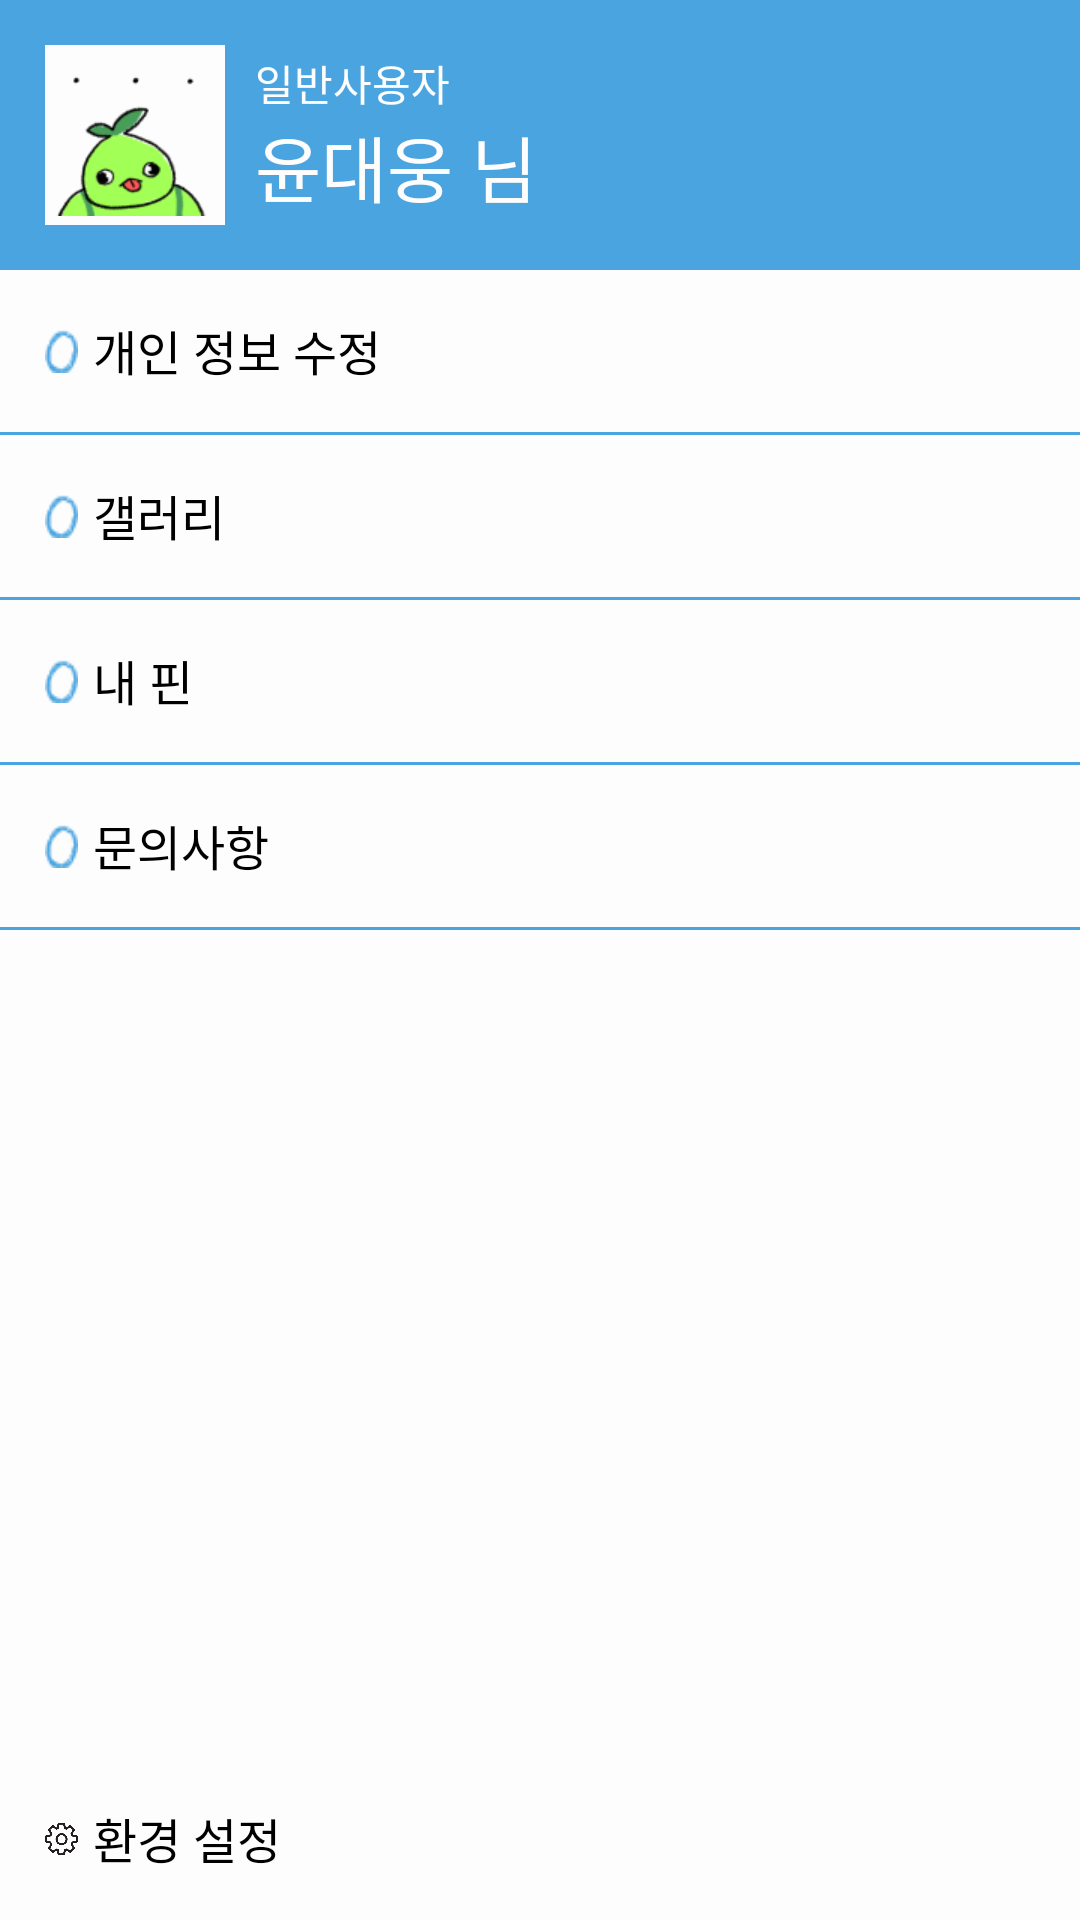

Named icons in this screenshot (1080x1920) and their bounding boxes, (x1, y1, x2, y2):
cogwheel: (45, 1823, 78, 1855)
profile: (57, 77, 206, 216)
